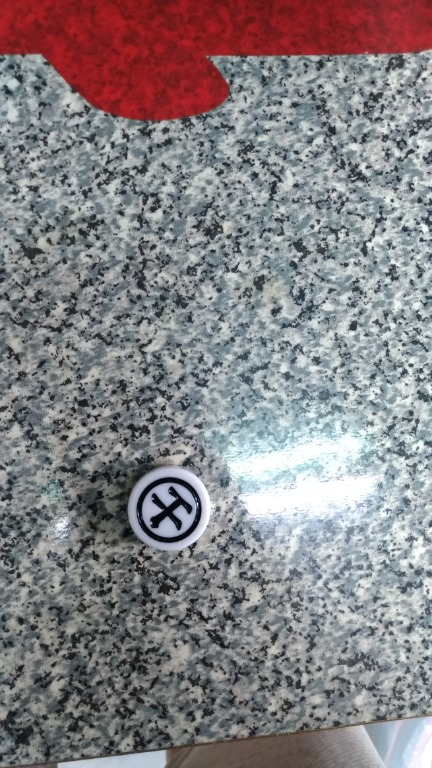b-advisor: (109, 456, 227, 556)
